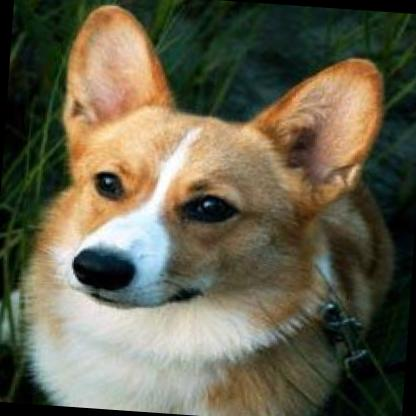Pembroke: (14, 0, 405, 416)
